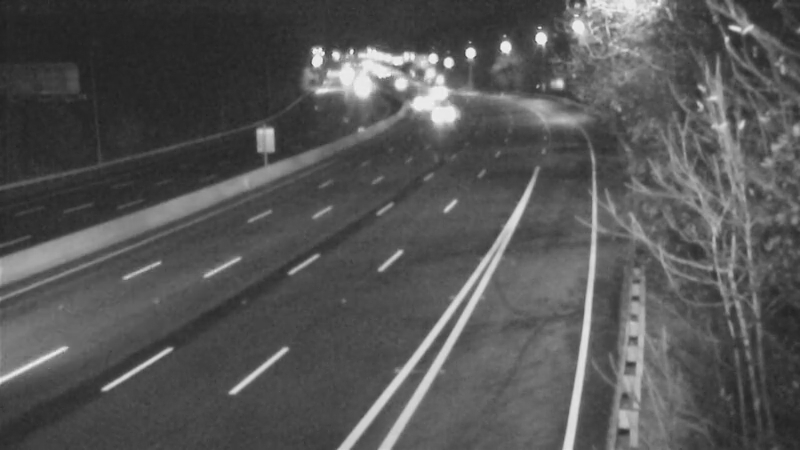vehicle: (372, 61, 422, 111), (410, 64, 460, 114), (394, 78, 444, 128), (416, 91, 466, 141)
